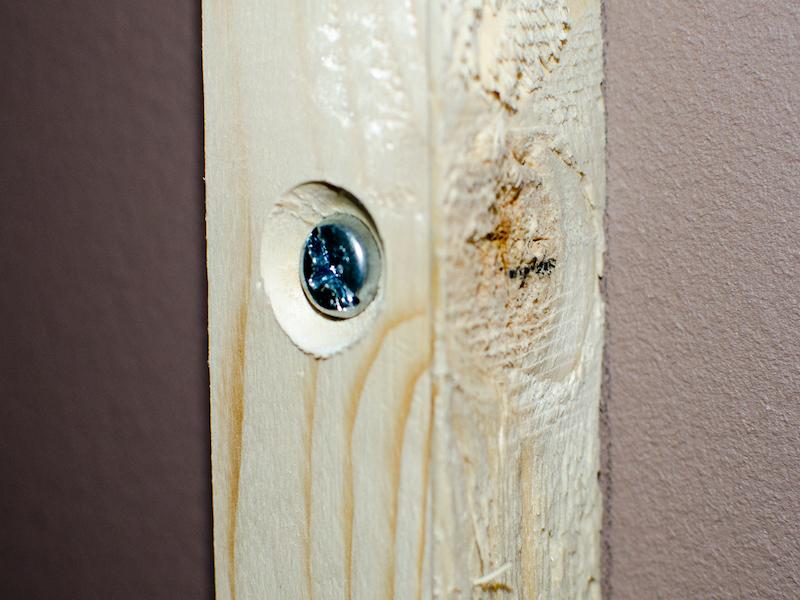screw: (296, 212, 385, 321)
